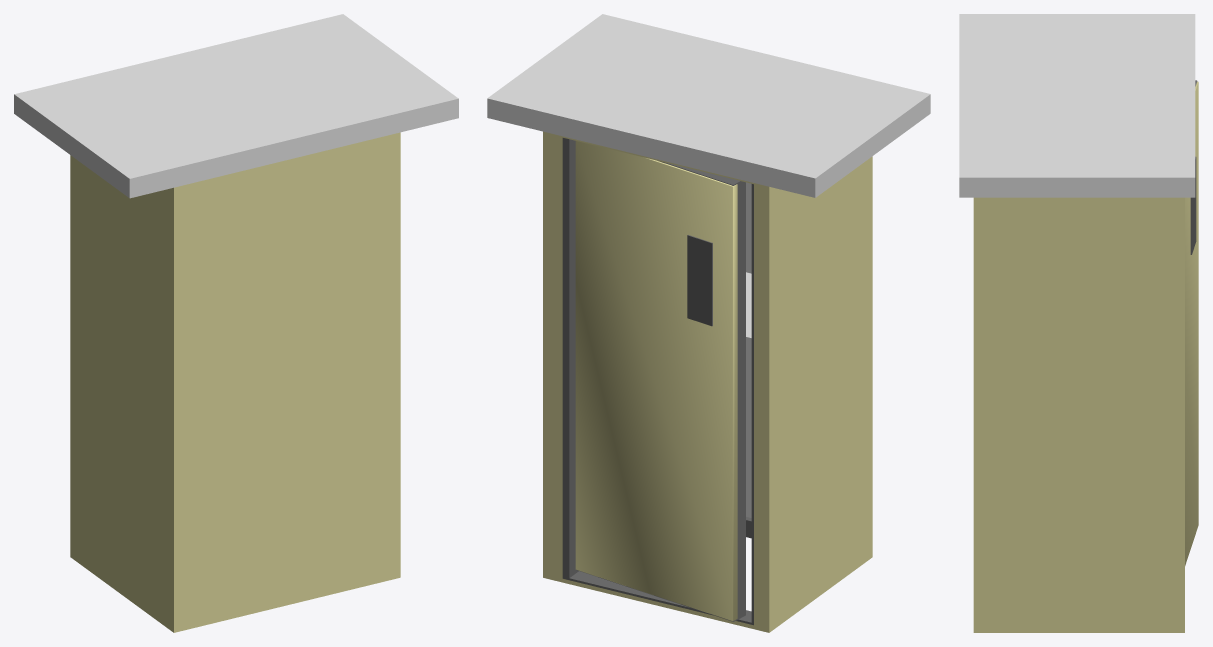
The model's file is Counter Small.glb.
3 renders of one model, left to right at view 1: azimuth 30°, elevation 25°; view 2: azimuth 150°, elevation 25°; view 3: azimuth 270°, elevation 25°, orthographic. The views are drawn at different scales.
Parts seen in each view (by area): view 1: Verso Visuel 21; view 2: Verso Visuel 21; view 3: Verso Visuel 21.
Part boxes in pixels (left/top/right/bottom): Verso Visuel 21: left=14, top=14, right=458, bottom=632; Verso Visuel 21: left=487, top=14, right=930, bottom=632; Verso Visuel 21: left=959, top=14, right=1198, bottom=632.
Size of the model in its own units: 0.7307 by 1 by 0.4511.
